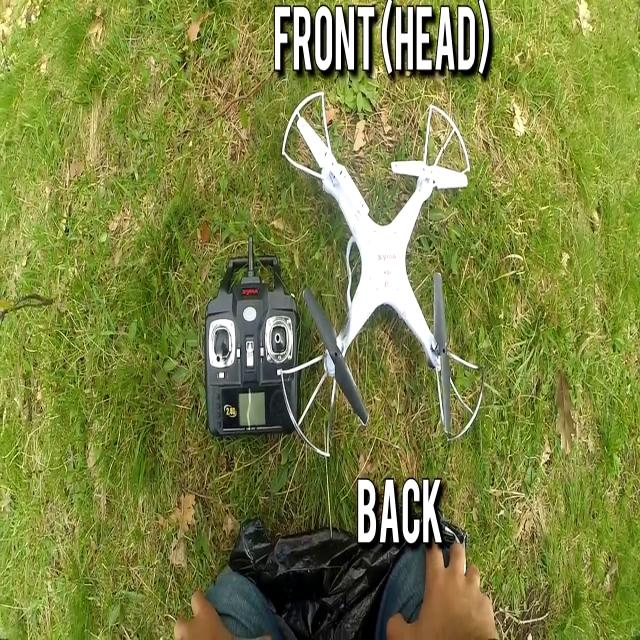drones: (269, 84, 487, 453)
